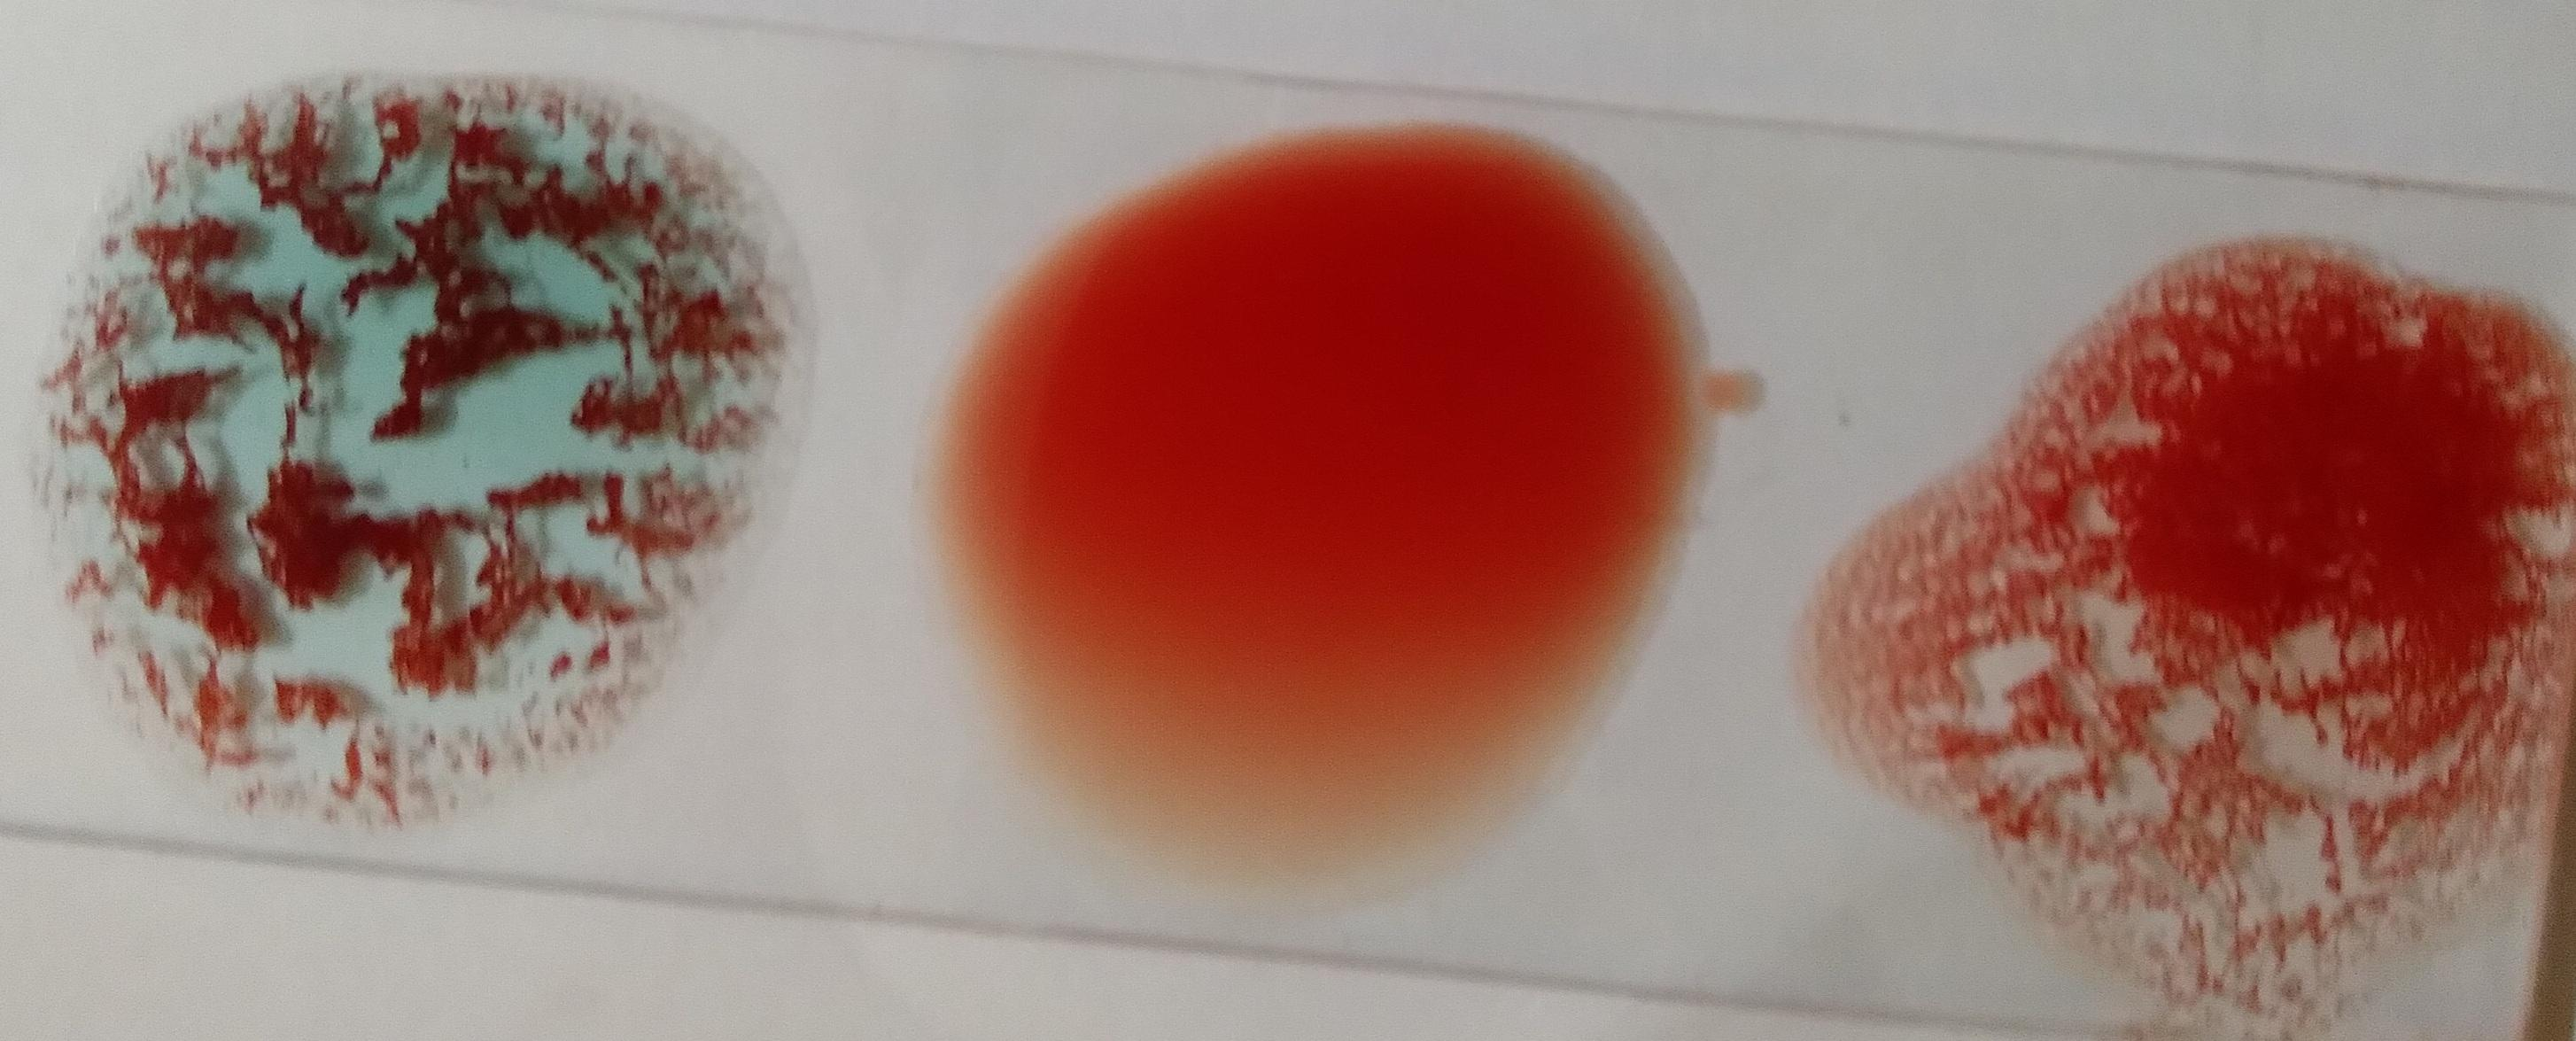A: (62, 80, 754, 821)
D: (1935, 255, 2576, 988)
